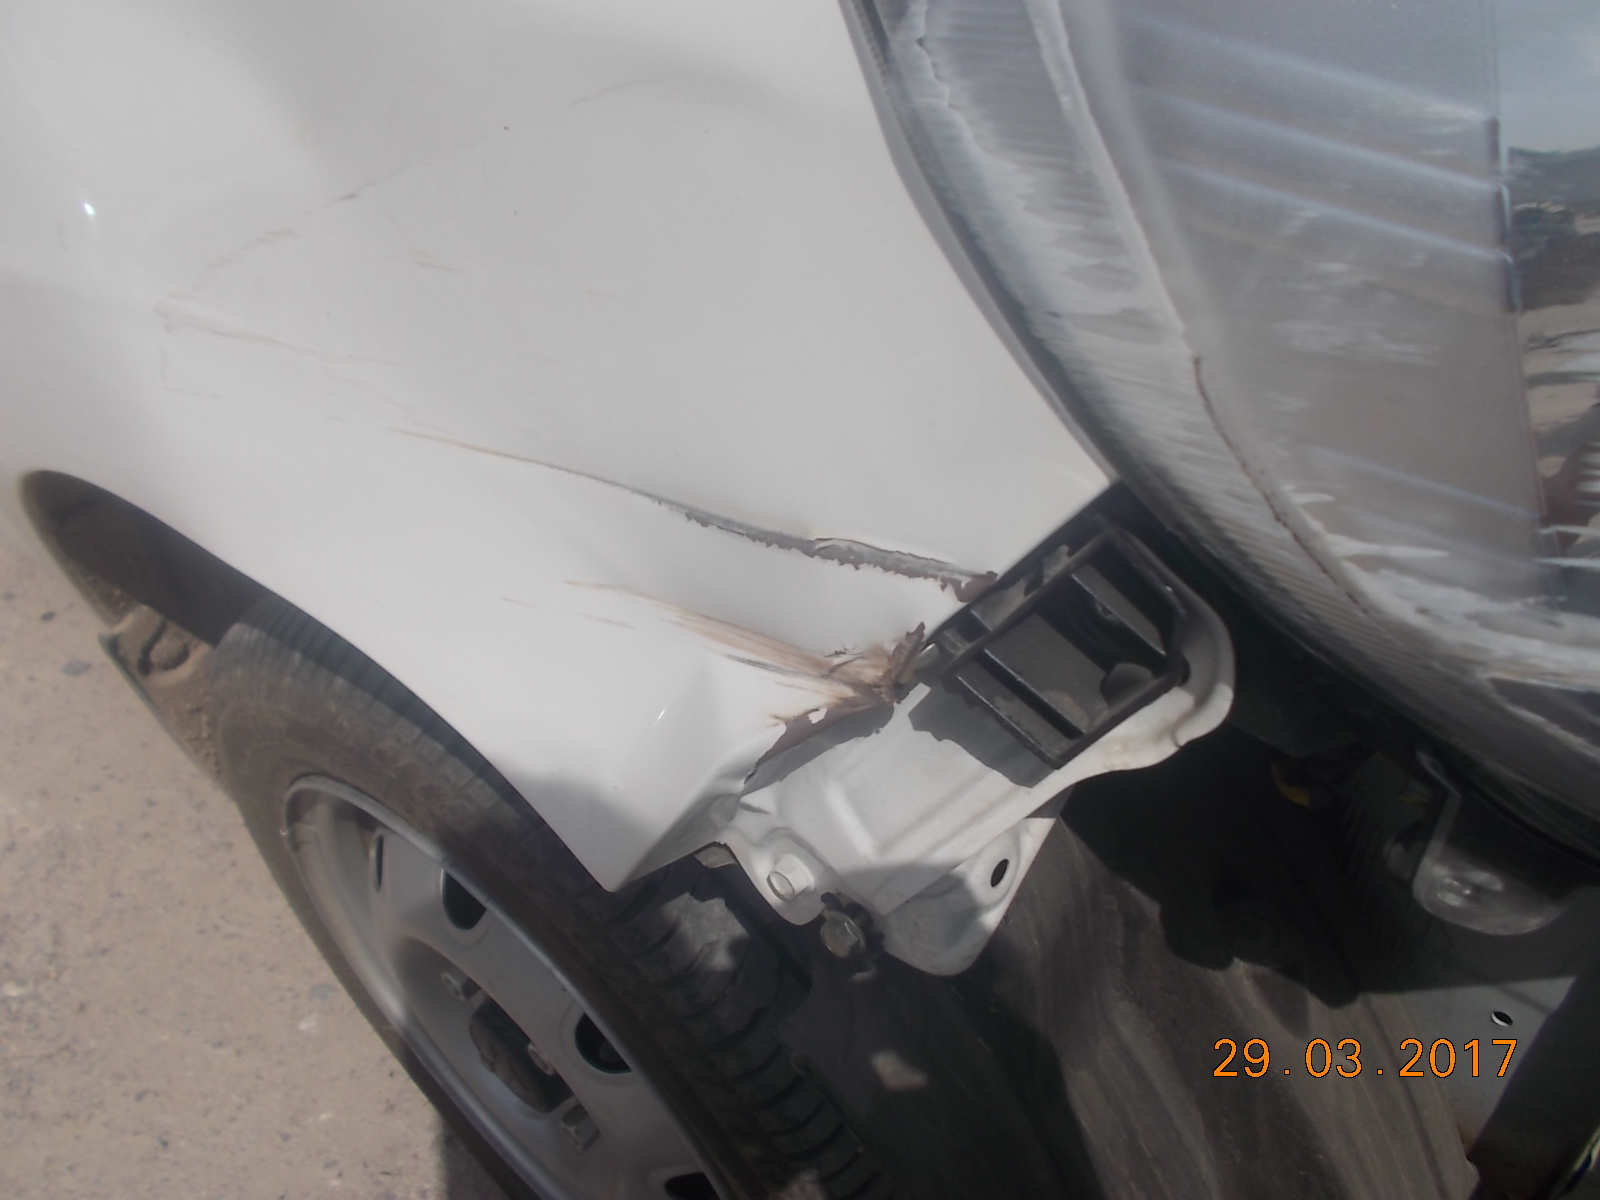Dent: (539, 458, 779, 751), (792, 527, 896, 661)
